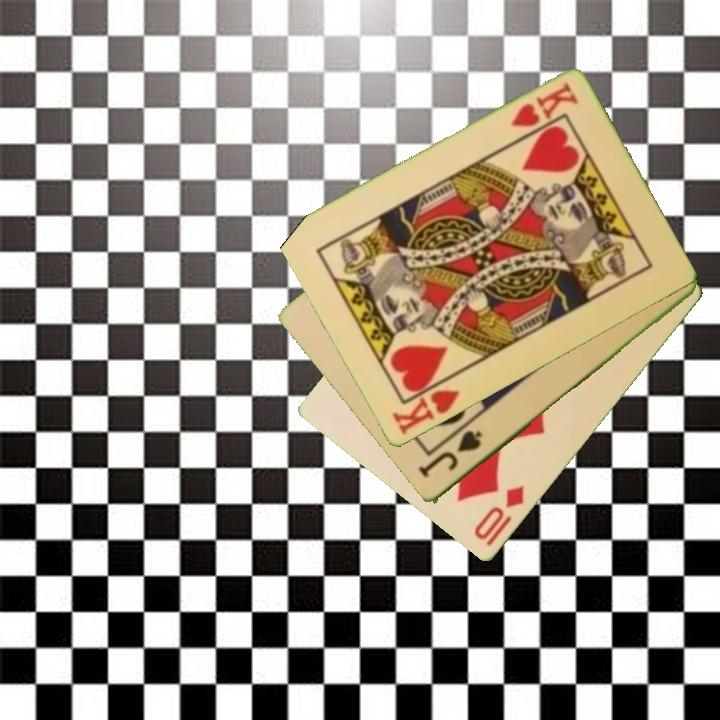10d: (470, 482, 528, 544)
Js: (416, 427, 486, 481)
Kh: (389, 372, 463, 438), (507, 79, 581, 131)
